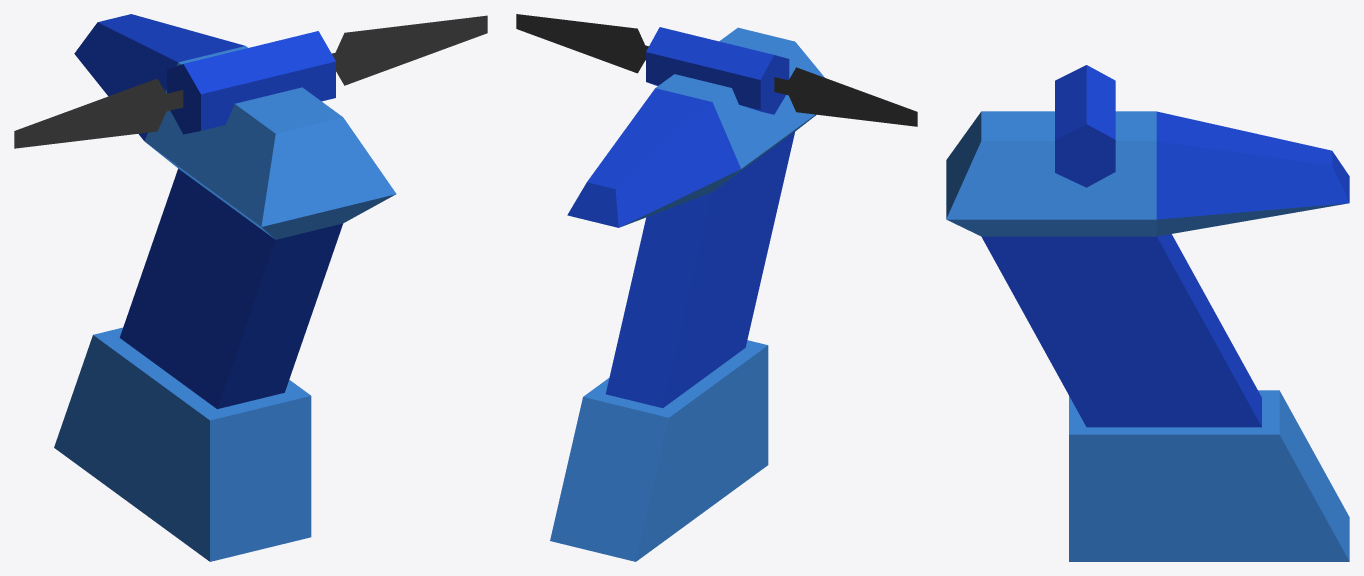
File: top.FBX
3 views of the same model, side by side, from view 1: azimuth 30°, elevation 25°; view 2: azimuth 150°, elevation 25°; view 3: azimuth 270°, elevation 25° (orthographic). The views are drawn at different scales.
Parts seen in each view (by area): view 1: VIFS001, VIFS003, VIFS002; view 2: VIFS003, VIFS001, VIFS002; view 3: VIFS001, VIFS003.
Boxes of the visible parts, x1=… form: VIFS001: x1=54, y1=46, x2=396, y2=561; VIFS003: x1=74, y1=14, x2=343, y2=409; VIFS002: x1=14, y1=15, x2=487, y2=148; VIFS003: x1=567, y1=27, x2=794, y2=408; VIFS001: x1=550, y1=27, x2=824, y2=561; VIFS002: x1=516, y1=14, x2=917, y2=126; VIFS001: x1=946, y1=111, x2=1349, y2=561; VIFS003: x1=981, y1=65, x2=1349, y2=427.
Bounding box in the file's own units: 0.42 × 0.42 × 0.345.
